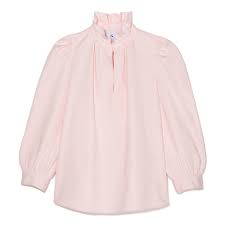C_blouse: (16, 17, 209, 213)
